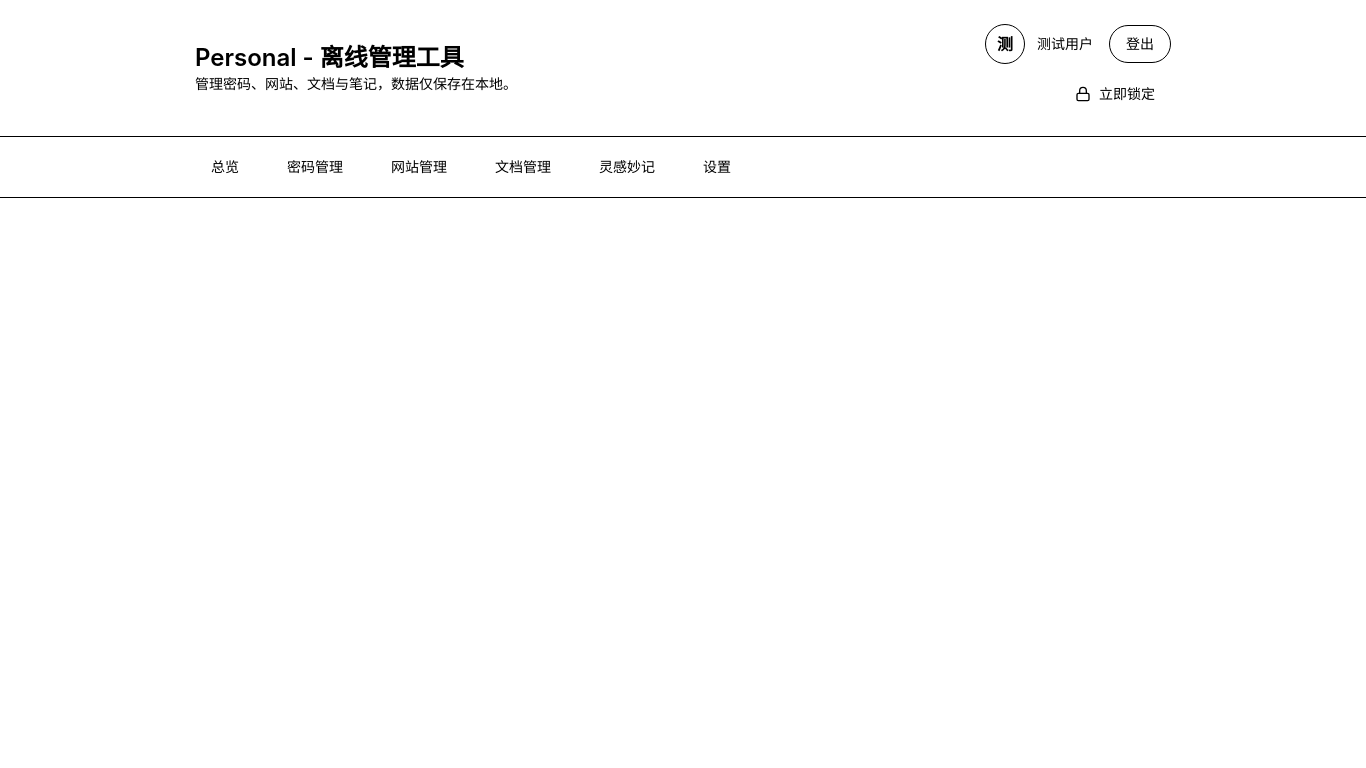
App navigation › navigates to modules via global search results
Click the link "密码管理": (315, 166) [287, 158, 343, 175]
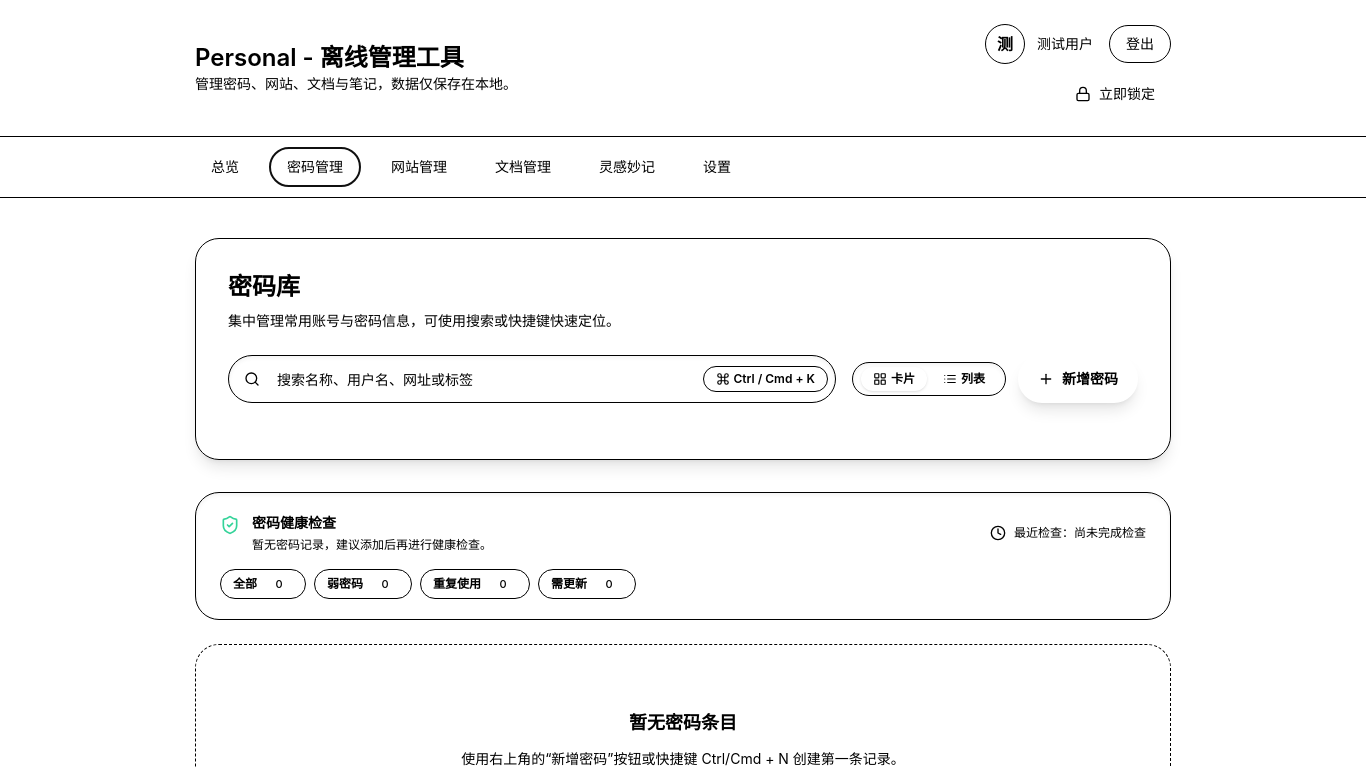
Now the heading "密码库" is shown, box [228, 272, 300, 301]
Click the button "Ctrl / Cmd + K": (765, 379) [702, 366, 828, 392]
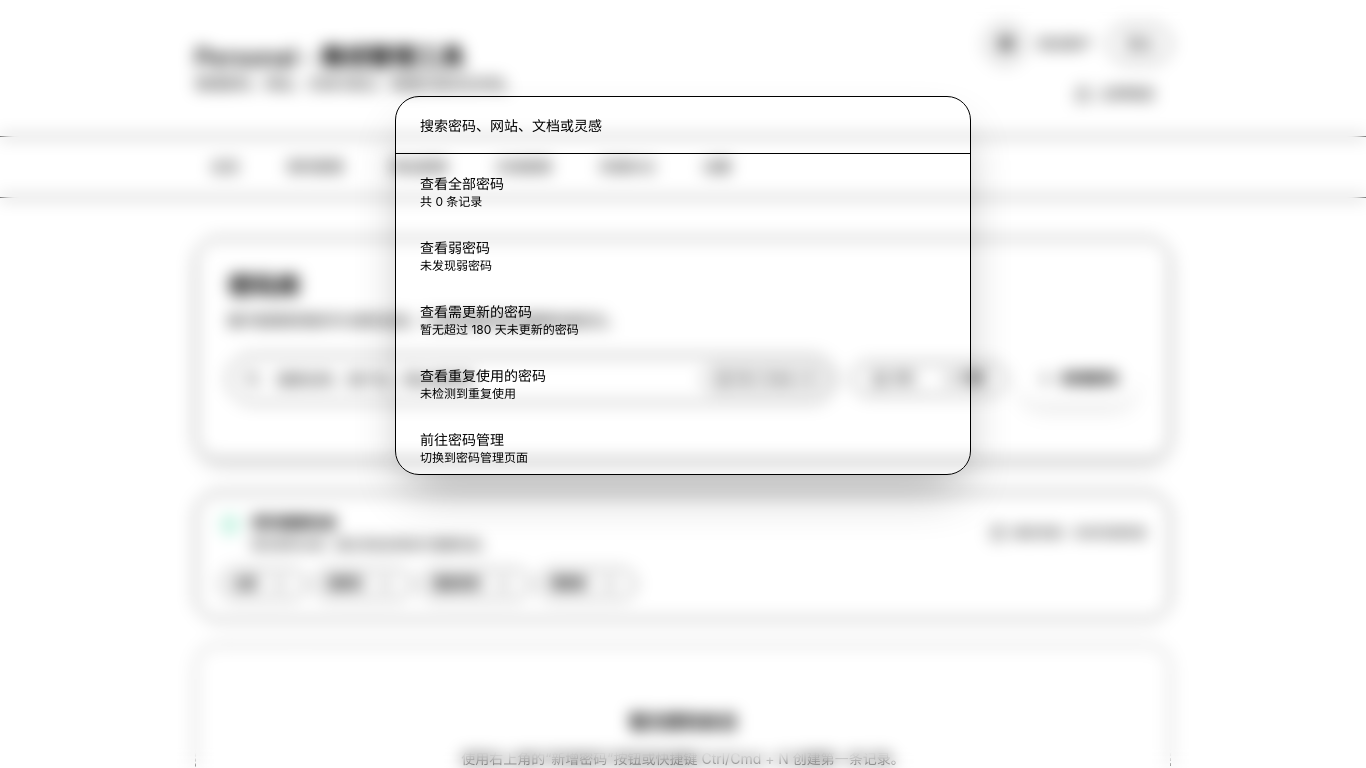
In the field with placeholder "搜索密码、网站、文档或灵感": (683, 126) [420, 116, 946, 136], type "文档"
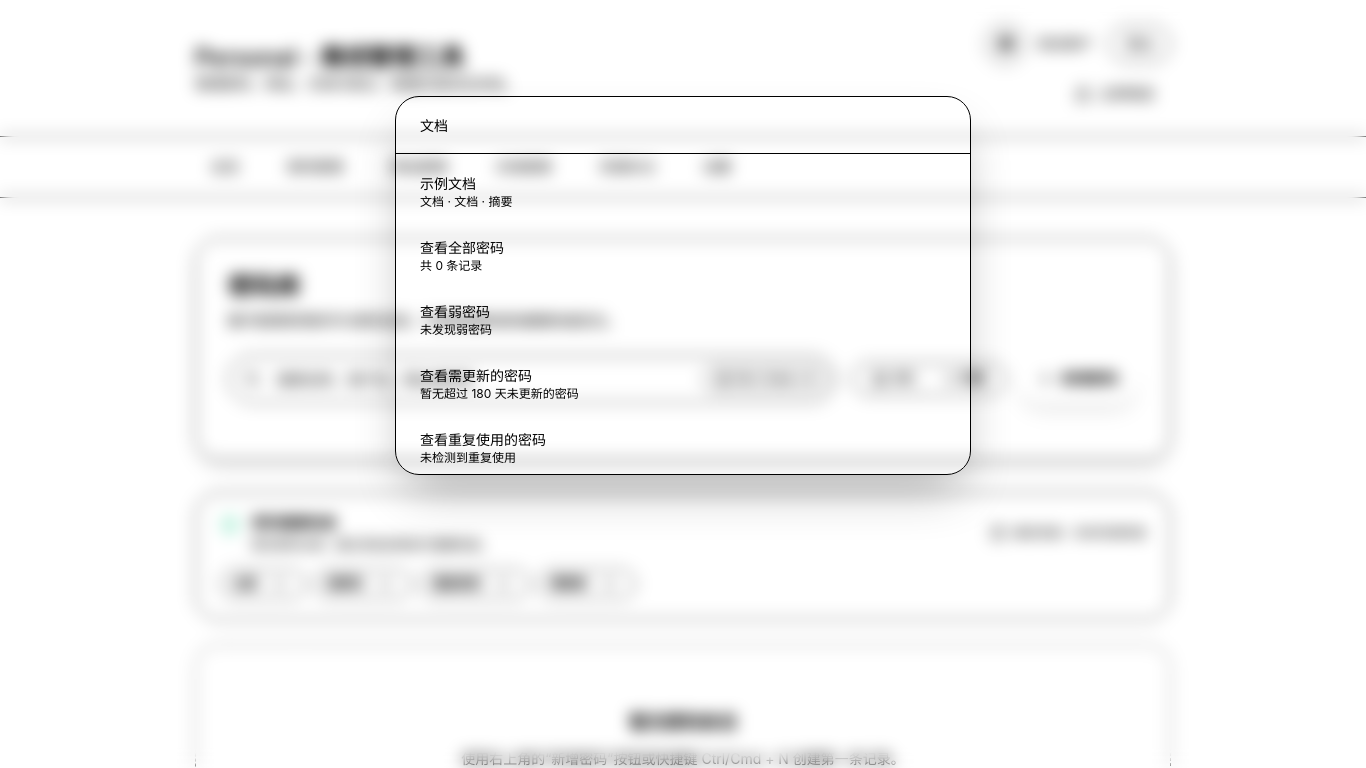
Click the button "示例文档 文档 · 文档 · 摘要": (448, 184) [404, 162, 962, 222]
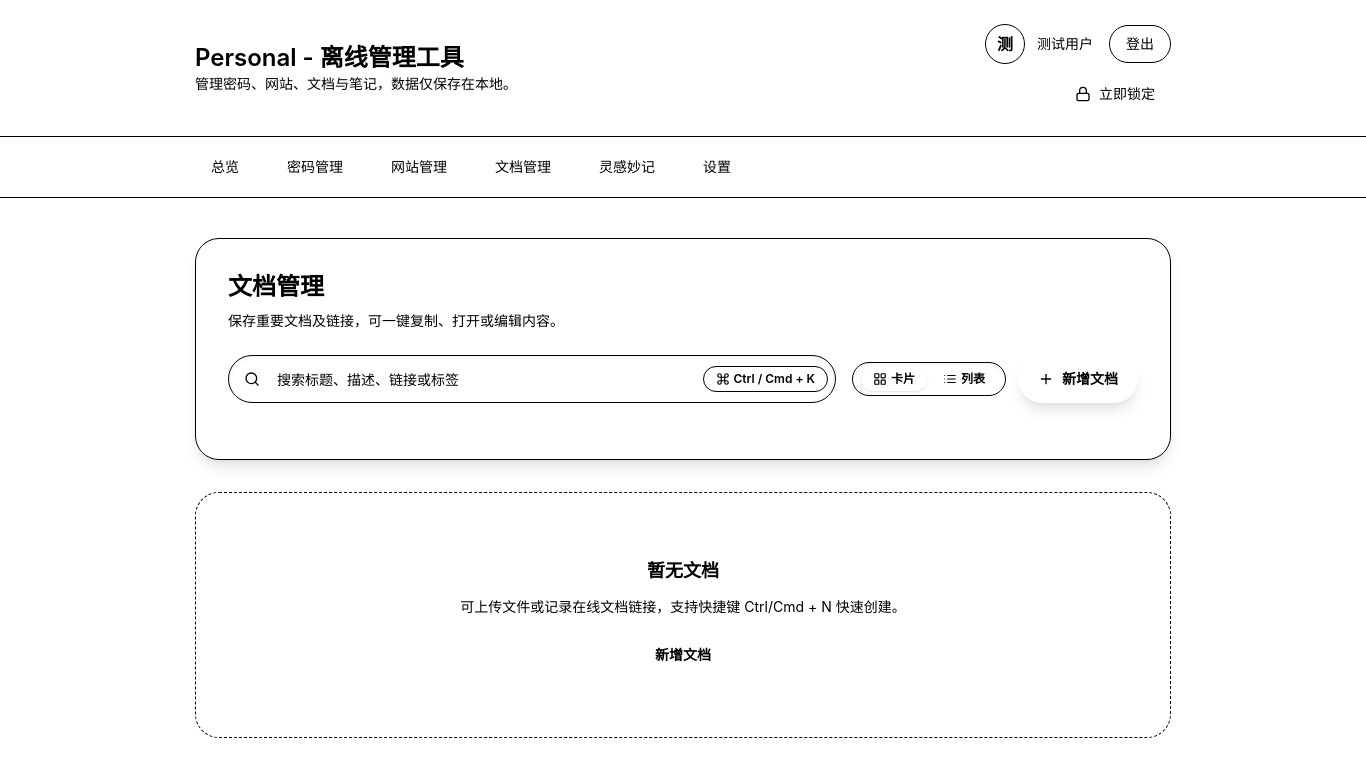
Now the heading "文档管理" is shown, box [228, 272, 324, 301]
